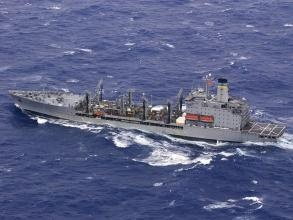warship: (1, 78, 287, 144)
